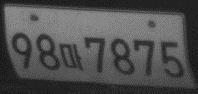5: (160, 39, 184, 79)
7: (83, 35, 106, 75), (132, 38, 155, 78)
8: (34, 32, 60, 71), (110, 37, 136, 76)
9: (11, 31, 32, 70)
마: (58, 43, 84, 71)
